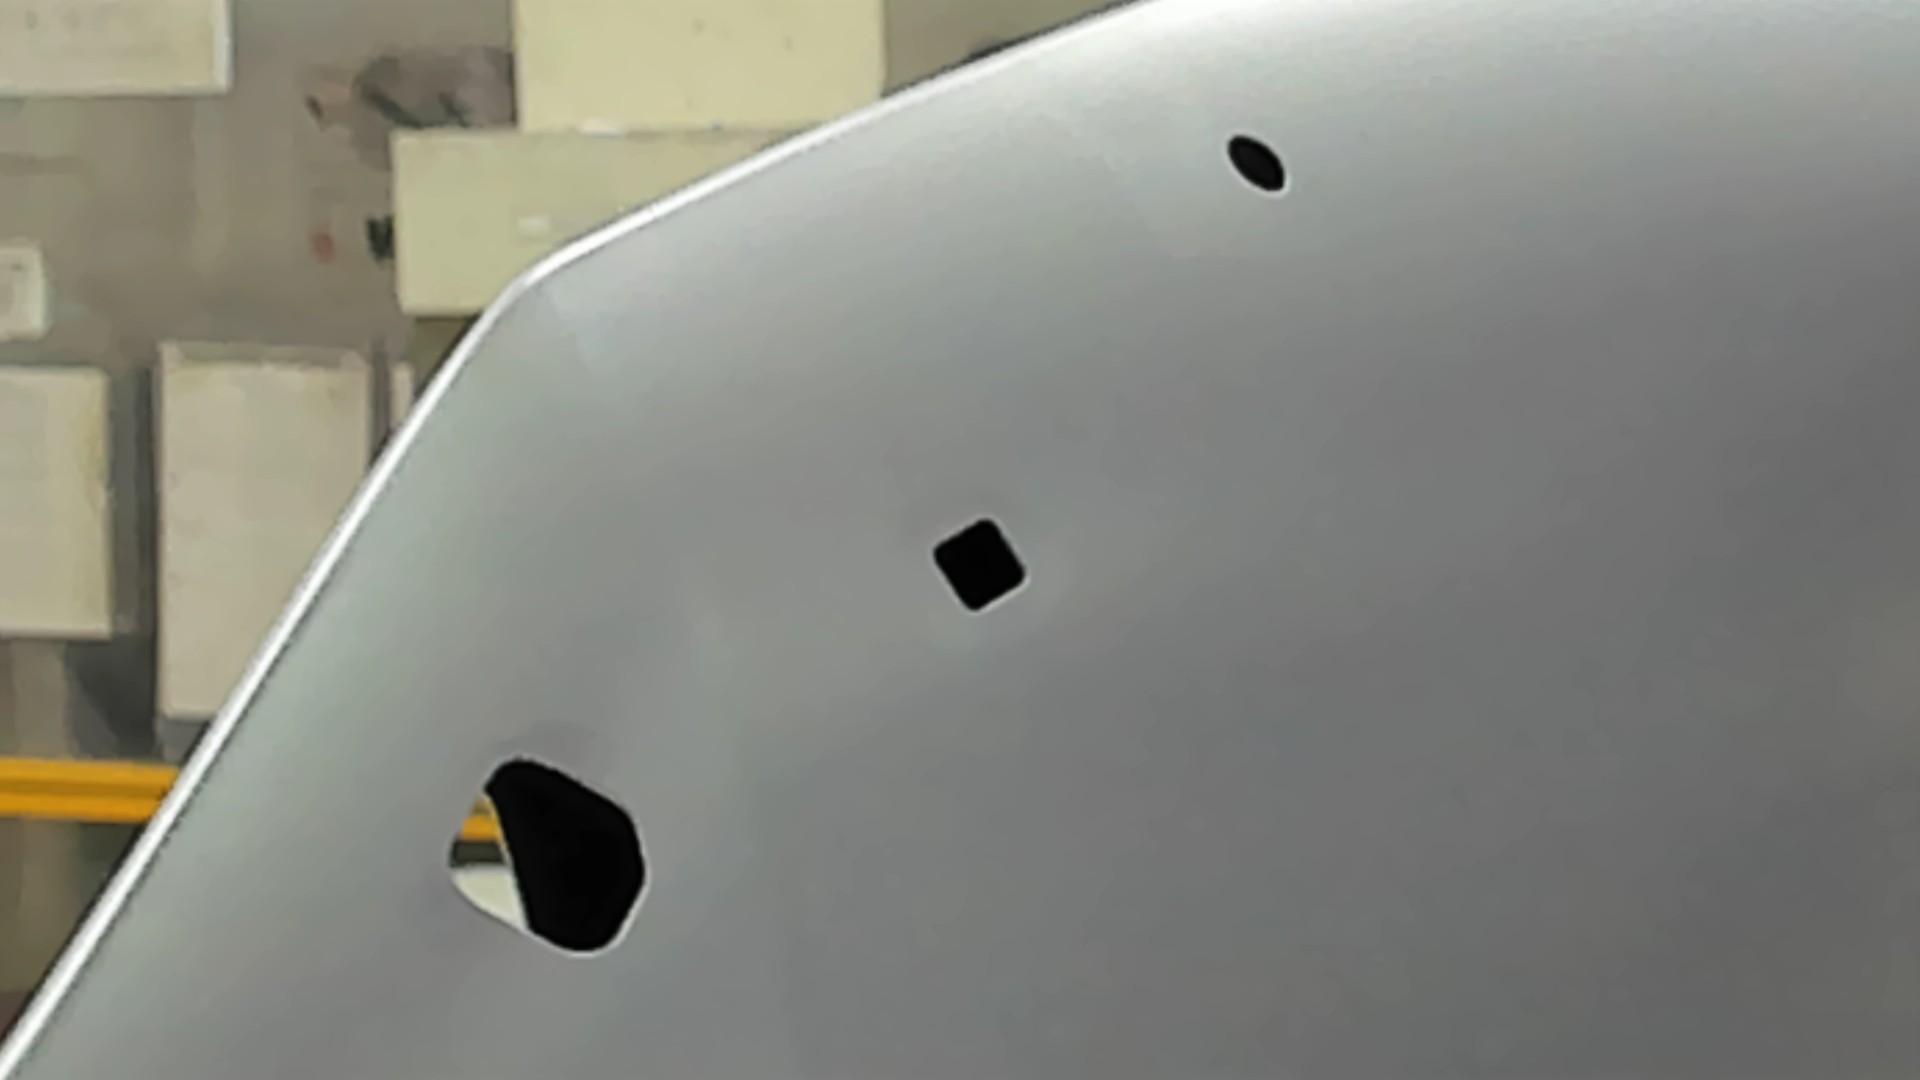chico: (1226, 131, 1295, 193)
grande: (444, 753, 657, 957)
mediano: (924, 513, 1035, 616)
